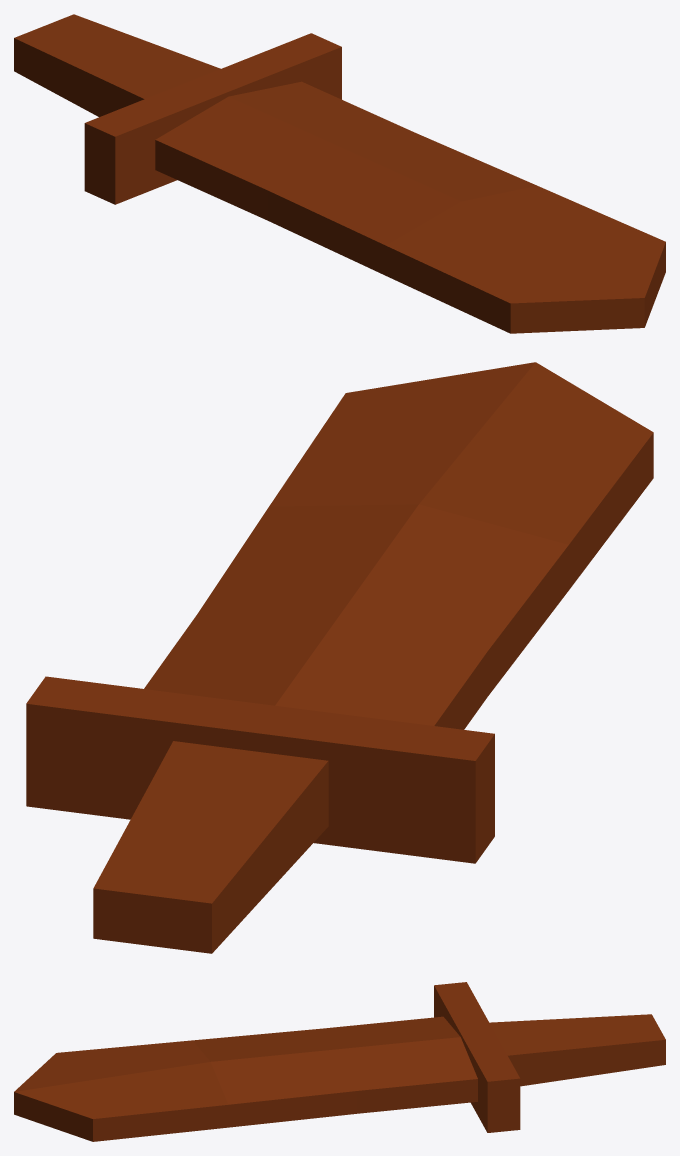
Rendered from sword.obj.
3 views of the same model, one above another, from view 1: azimuth 30°, elevation 25°; view 2: azimuth 150°, elevation 25°; view 3: azimuth 270°, elevation 25° (orthographic). The views are drawn at different scales.
Visible parts, largest first — view 1: Cube; view 2: Cube; view 3: Cube.
Boxes of the visible parts, x1,y1,x2,y2 form: Cube: [14, 14, 665, 333]; Cube: [26, 362, 653, 953]; Cube: [14, 982, 665, 1141].
Size of the model in its own units: 1.73 by 0.3363 by 3.87.
